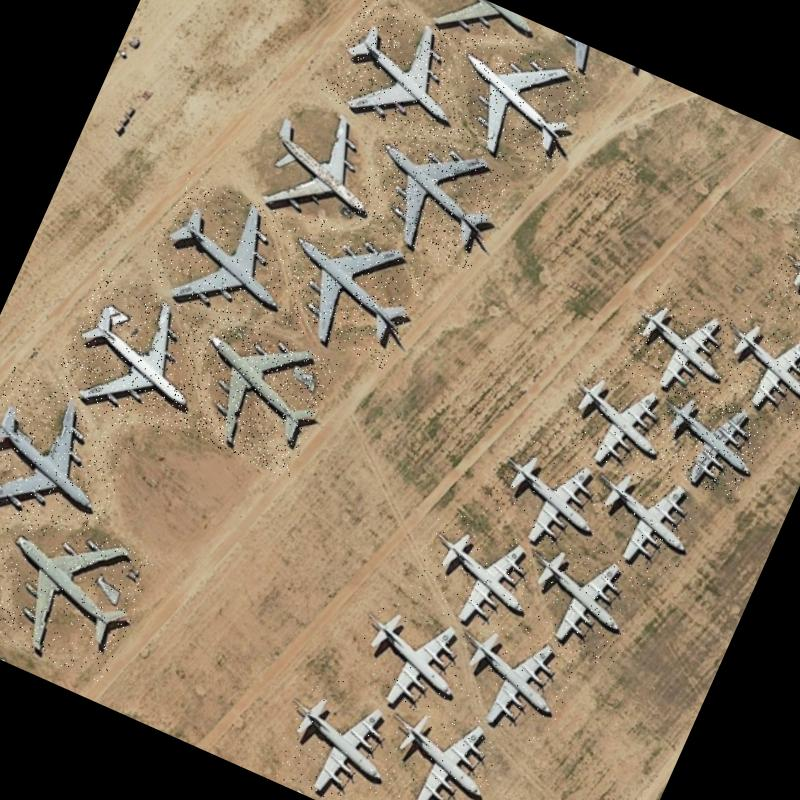A11: (50, 269, 230, 443), (424, 20, 596, 184)
A14: (140, 171, 319, 339), (0, 503, 157, 685), (255, 208, 431, 370), (170, 312, 339, 480), (346, 116, 515, 276), (0, 365, 144, 549), (319, 0, 482, 146), (0, 479, 38, 651)
A9: (499, 522, 654, 671), (432, 608, 584, 751), (338, 586, 484, 728), (402, 506, 550, 646), (259, 674, 410, 800), (571, 450, 710, 584), (614, 282, 750, 418), (476, 430, 614, 562), (548, 357, 686, 487), (361, 690, 509, 800), (644, 380, 772, 503), (706, 303, 800, 430), (758, 227, 800, 355)
